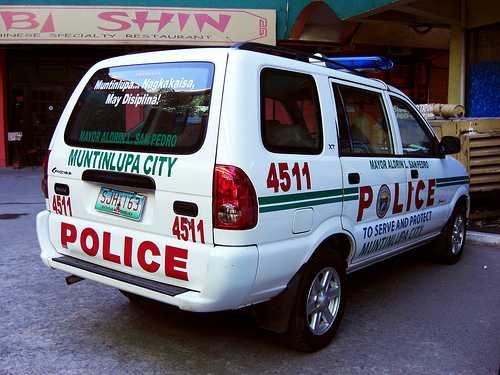Police Car: (34, 34, 491, 344)
